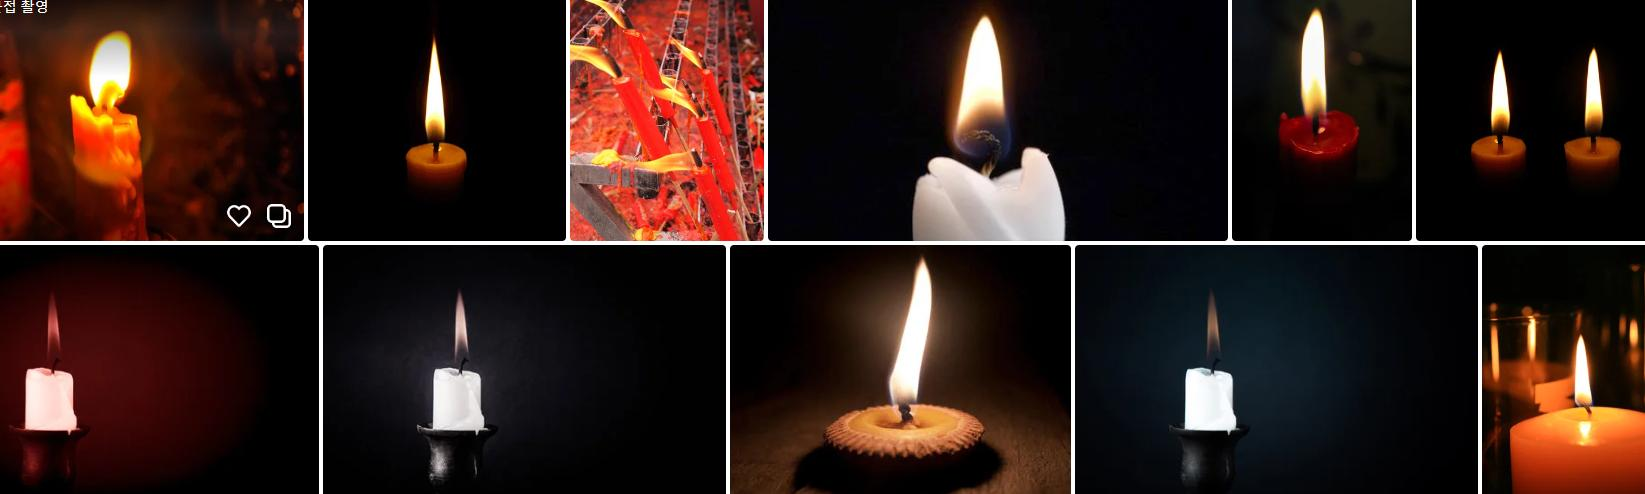fire: (955, 16, 1010, 165), (891, 258, 933, 418), (90, 28, 131, 111), (1303, 6, 1326, 123), (426, 38, 445, 146), (1489, 51, 1510, 139), (1584, 47, 1604, 135), (1573, 334, 1594, 410), (1205, 286, 1222, 371), (454, 292, 469, 367)
